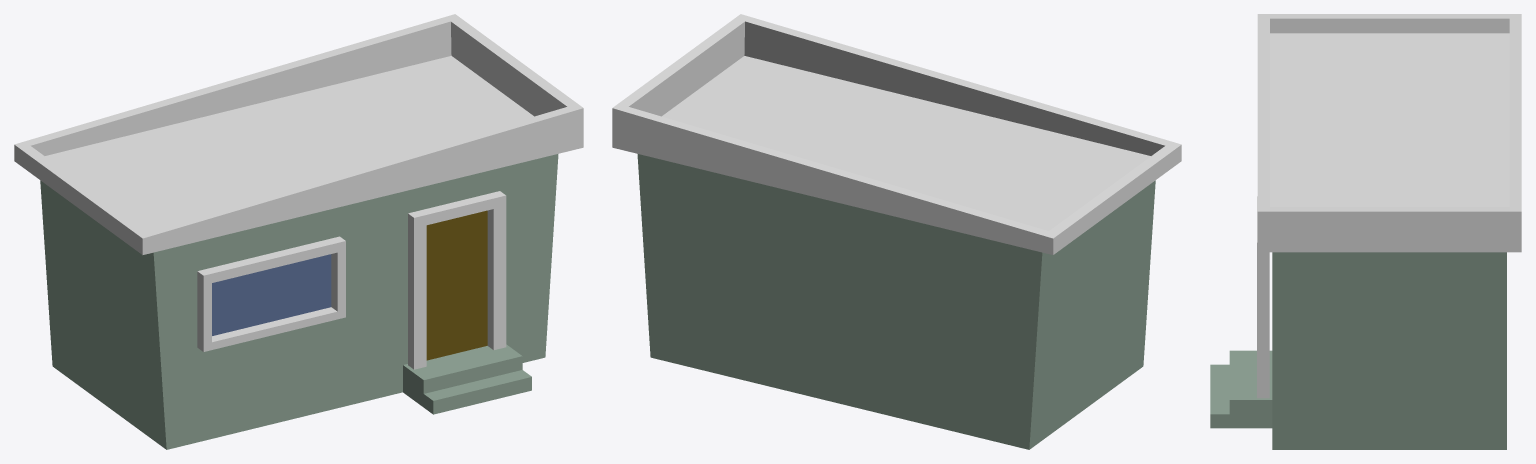
The model's file is Building 003.fbx.
The picture shows the model from 3 angles, left to right: view 1: azimuth 30°, elevation 25°; view 2: azimuth 150°, elevation 25°; view 3: azimuth 270°, elevation 25°; orthographic projection. The views are drawn at different scales.
Visible parts, largest first — view 1: polySurface1, polySurface3, polySurface5, polySurface4; view 2: polySurface1; view 3: polySurface1, polySurface4, polySurface3.
Boxes of the visible parts, x1,y1,x2,y2 form: polySurface1: (14, 14, 583, 449); polySurface3: (408, 191, 506, 369); polySurface5: (197, 236, 345, 351); polySurface4: (403, 344, 531, 414); polySurface1: (612, 14, 1181, 449); polySurface1: (1257, 14, 1521, 449); polySurface4: (1210, 350, 1272, 428); polySurface3: (1257, 196, 1269, 398).
Size of the model in its own units: 10.7 by 5.74 by 6.37.
